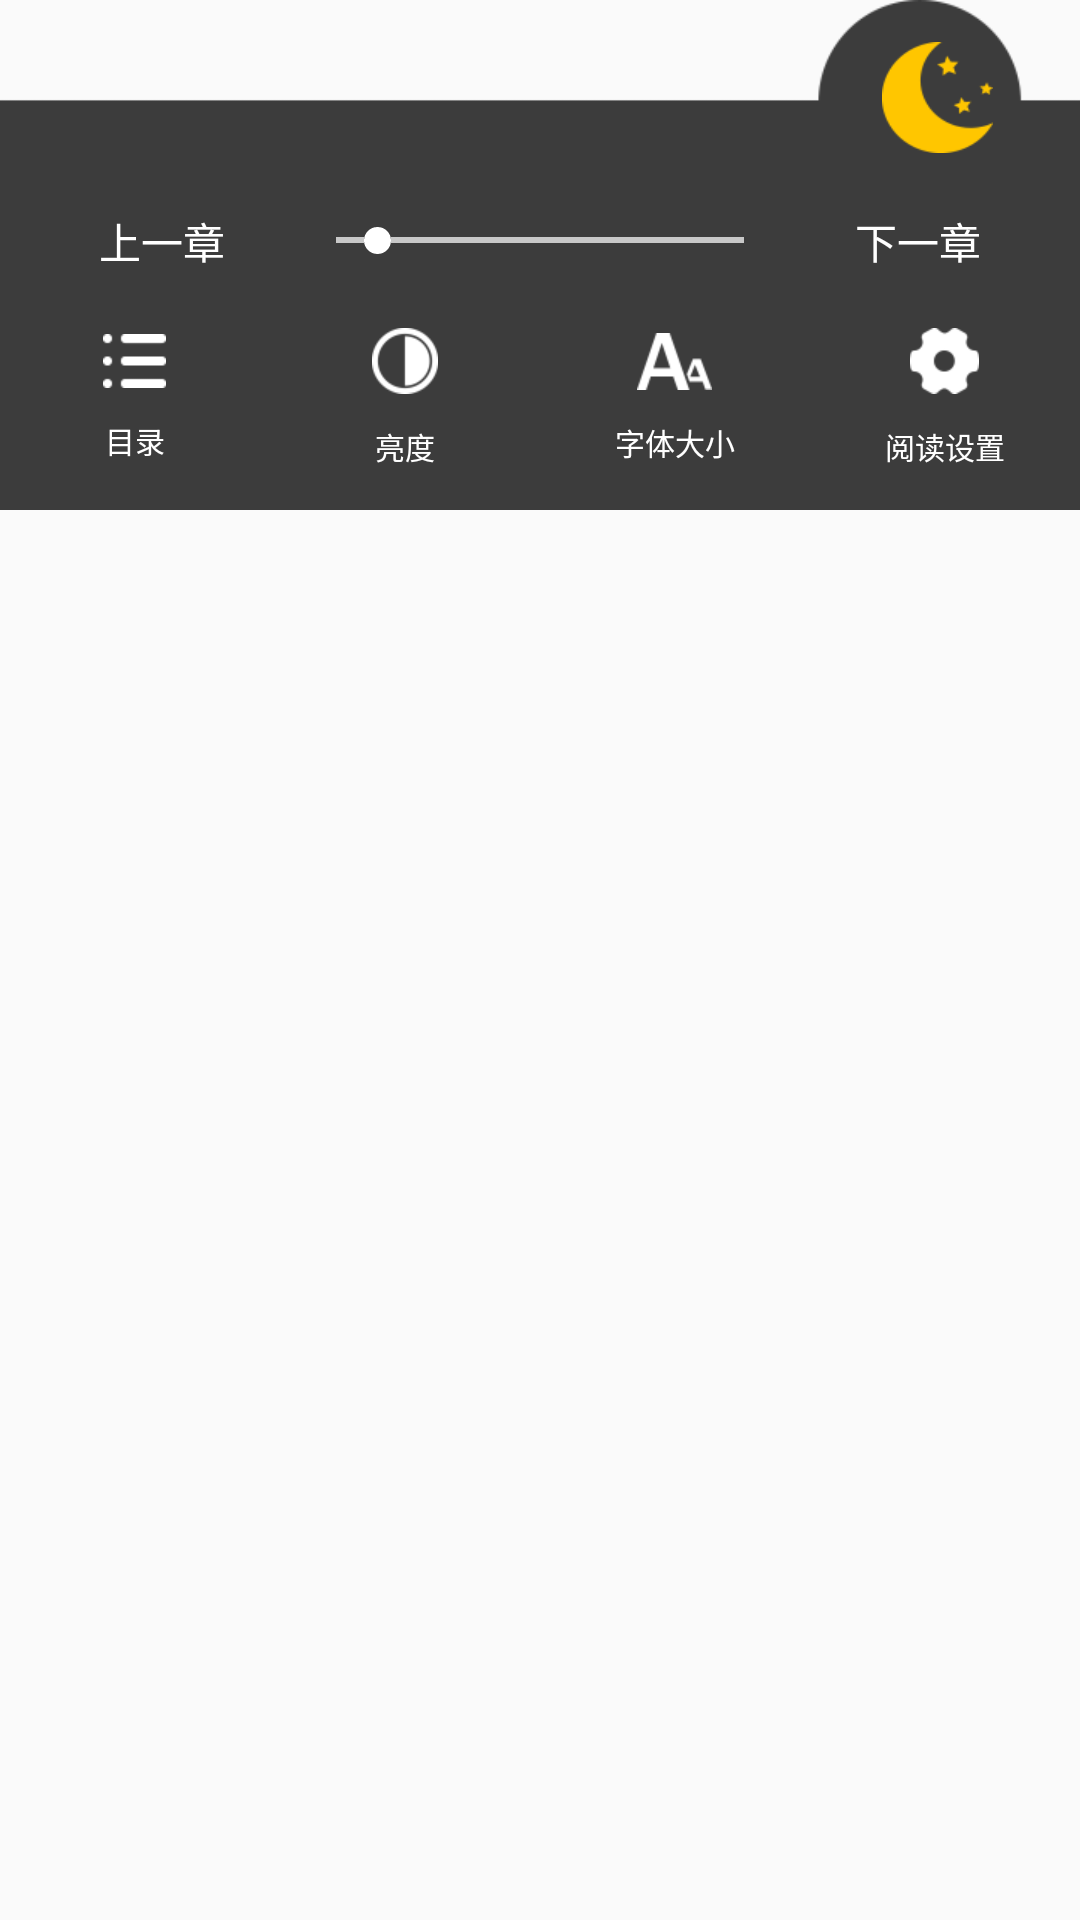

Named icons in this screenshot (1080 × 1920) and their bounding boxes, [x1=x1, y1=y1, x2=x2, y2=y2]:
zjb read night model: [x1=882, y1=42, x2=993, y2=153]
